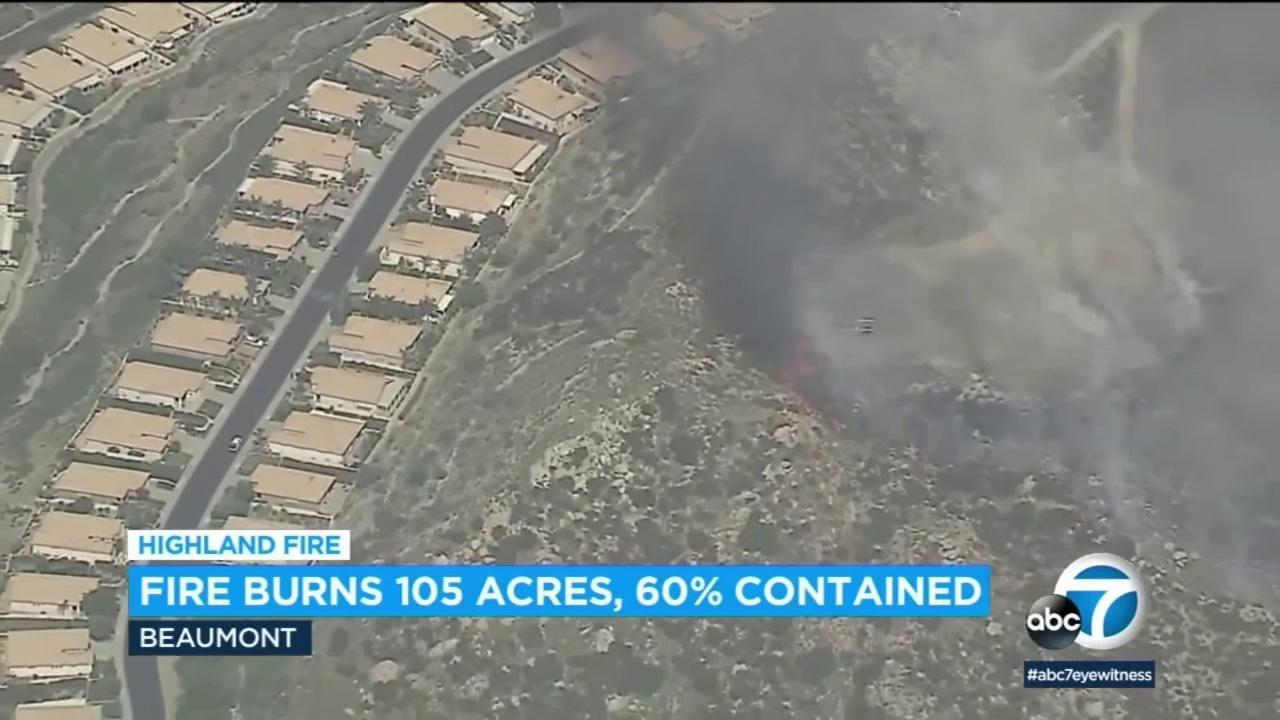fire: (779, 338, 815, 393)
smoke: (549, 3, 1280, 614)
